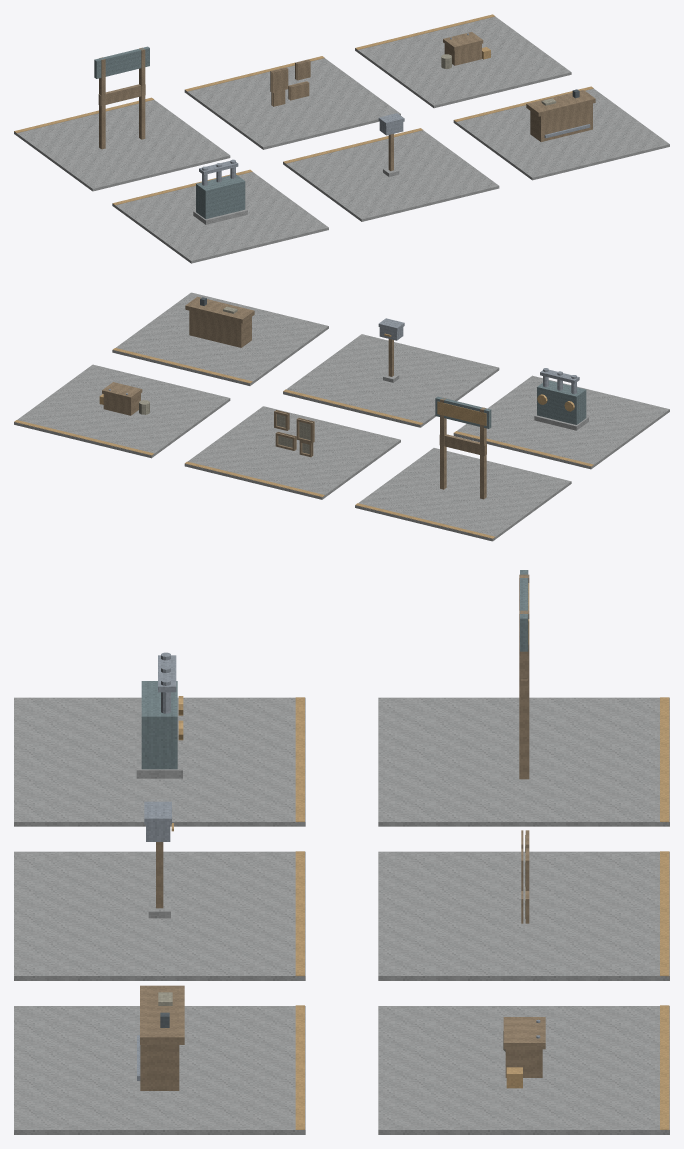
File: level_blockout_kit_wld_16_p01.glb
The picture shows the model from 3 angles, top to bottom: view 1: azimuth 30°, elevation 25°; view 2: azimuth 150°, elevation 25°; view 3: azimuth 270°, elevation 25°; orthographic projection. The views are drawn at different scales.
Parts seen in each view (by area): view 1: level_blockout_kit_wld_16_p01; view 2: level_blockout_kit_wld_16_p01; view 3: level_blockout_kit_wld_16_p01.
Part boxes in pixels (x1,y1,x2,y2): level_blockout_kit_wld_16_p01: (14,14,669,263); level_blockout_kit_wld_16_p01: (14,292,669,541); level_blockout_kit_wld_16_p01: (14,570,669,1134).
Bounding box in the file's own units: 19.65 × 3.61 × 12.6.
7 materials, 7 textured.
